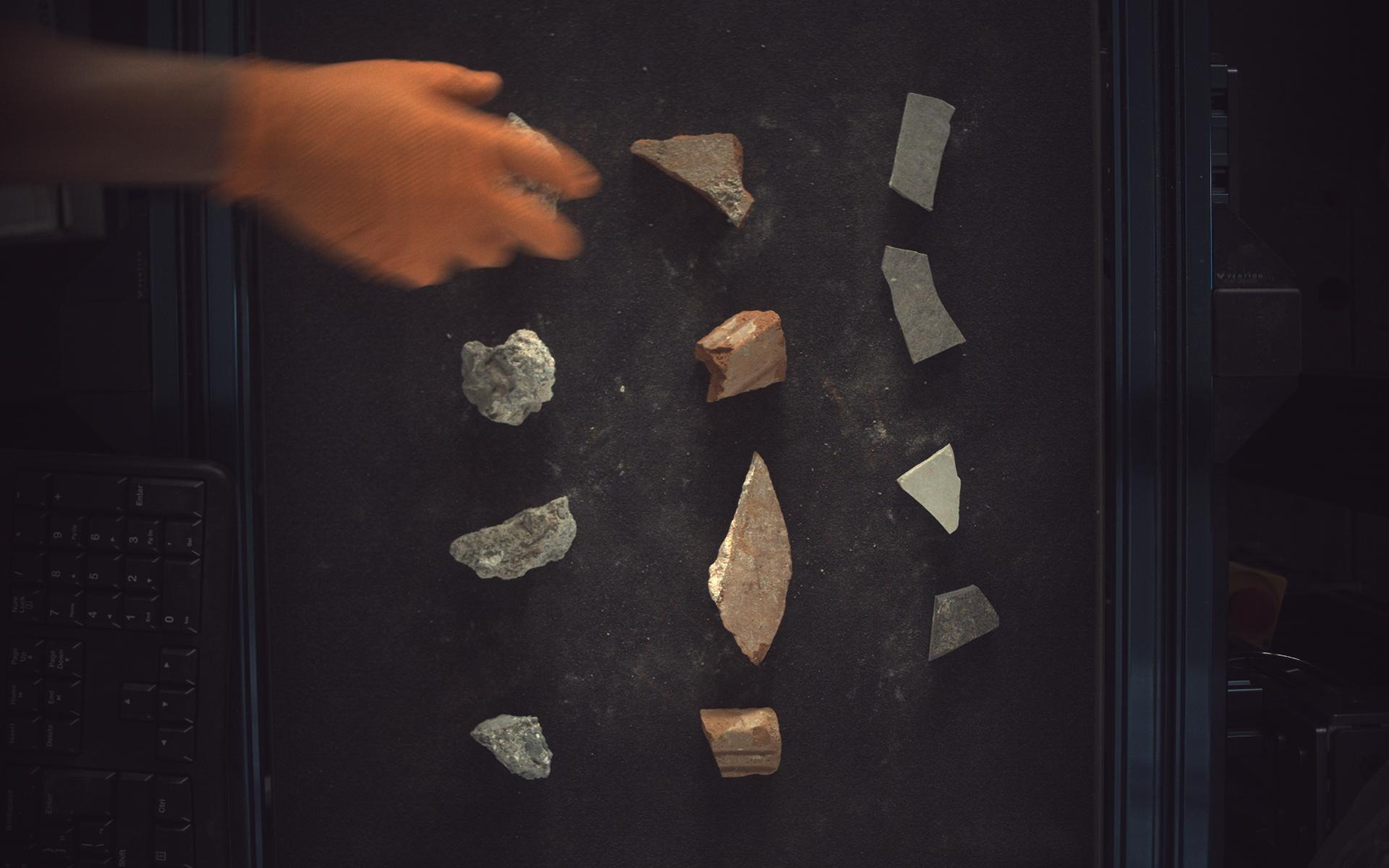brick: (709, 453, 794, 665), (631, 132, 755, 226), (696, 310, 788, 402), (702, 709, 783, 779)
concrete: (450, 496, 577, 580), (462, 328, 556, 425), (471, 715, 552, 781)
tile: (883, 245, 967, 363), (891, 92, 956, 210), (899, 444, 963, 534), (930, 586, 1001, 661)
